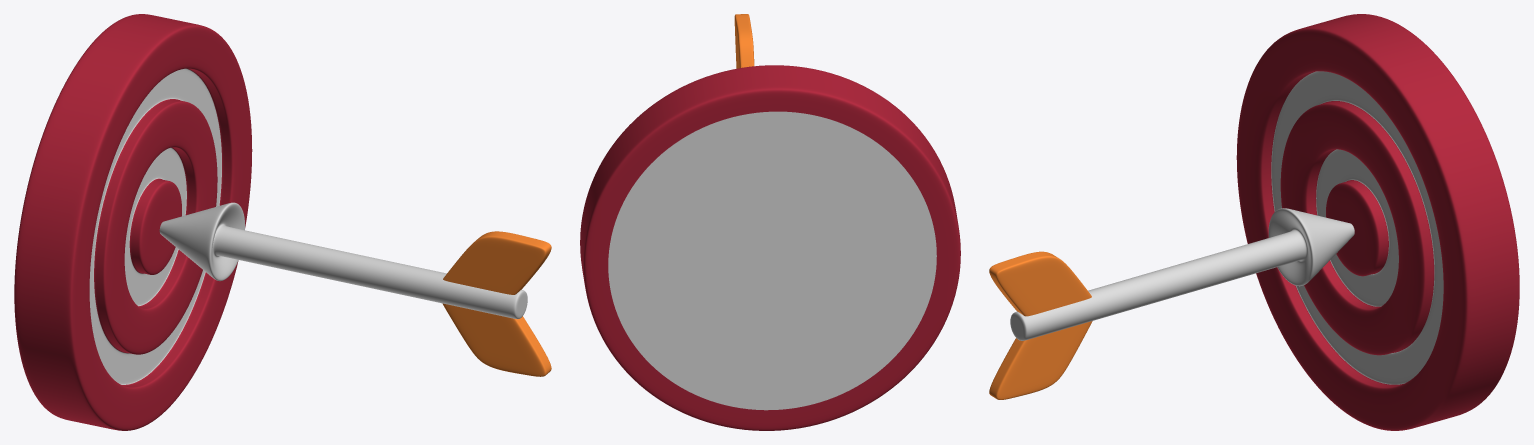
Rendered from target.glb.
3 renders of one model, left to right at view 1: azimuth 30°, elevation 25°; view 2: azimuth 150°, elevation 25°; view 3: azimuth 270°, elevation 25°, orthographic. The views are drawn at different scales.
Visible parts, largest first — view 1: Circle; view 2: Circle; view 3: Circle.
Part boxes in pixels (x1,y1,x2,y2): Circle: [14, 14, 551, 430]; Circle: [580, 14, 960, 430]; Circle: [989, 14, 1519, 430].
Size of the model in its own units: 1.82 by 1.67 by 2.13.
